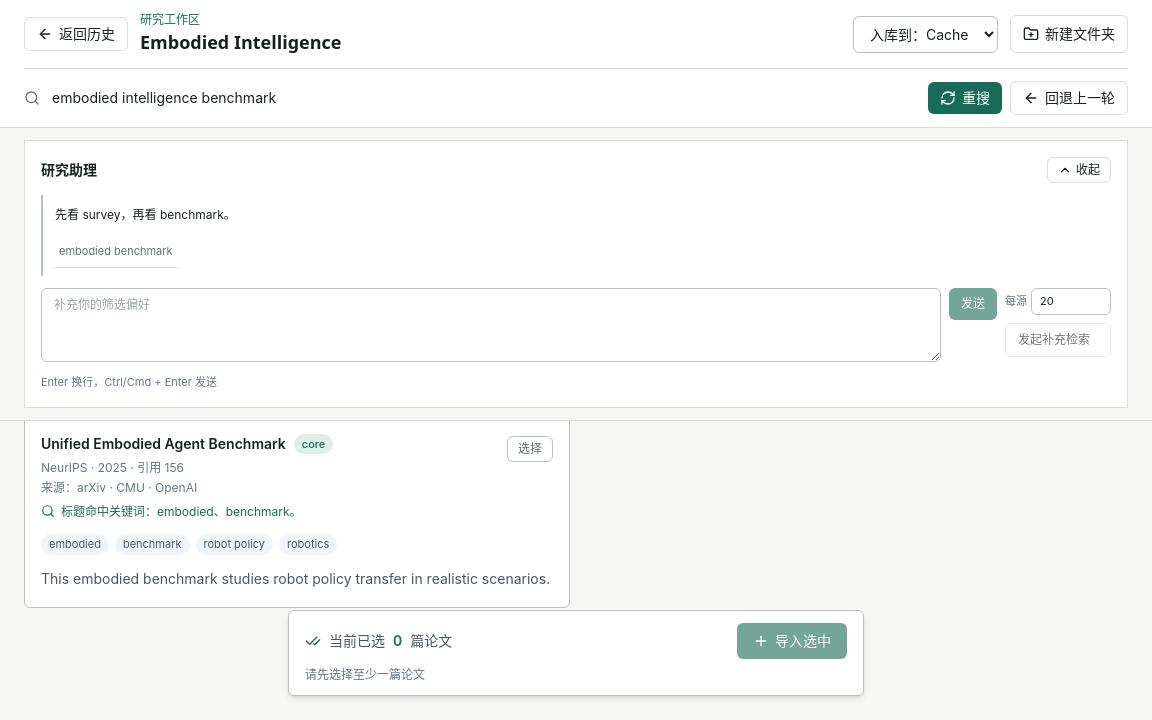
Test case: SessionDetailPanel › redacts sensitive values in clipboard copy failures
The image size is (1152, 720).
(page scrolled)
Click the heading "Unified Embodied Agent Benchmark" at [163, 444], box [41,432,286,456]
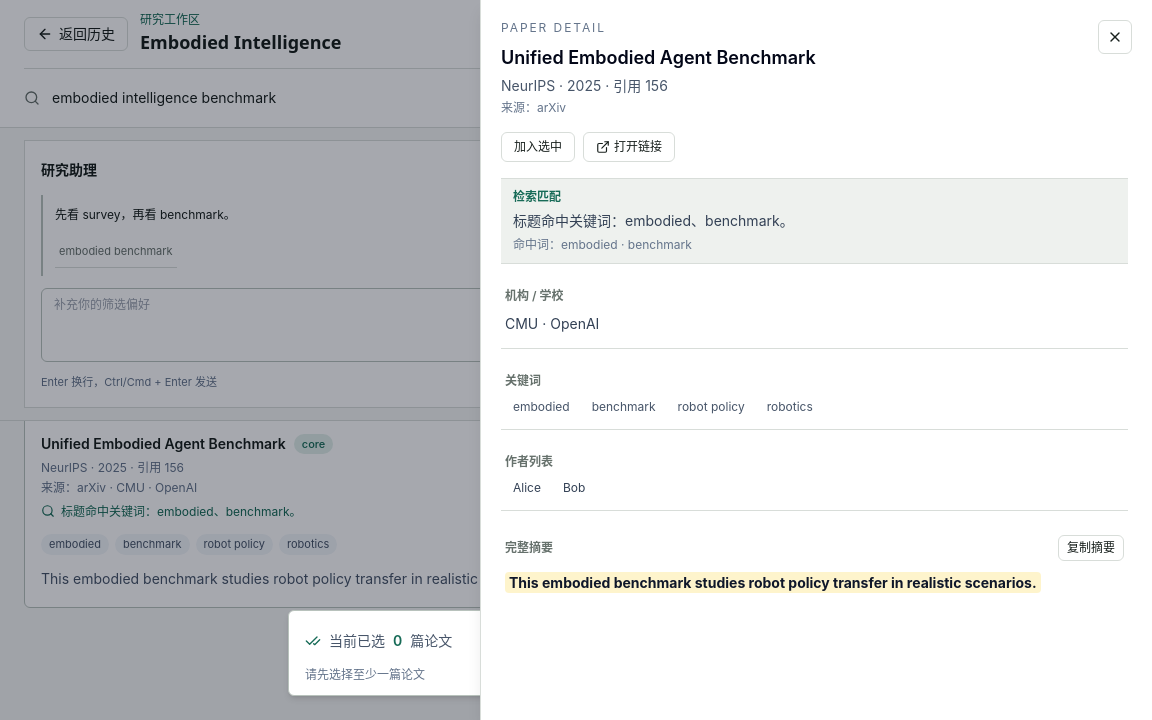
Click the button "复制摘要" at [1091, 548], box [1058,535,1124,561]
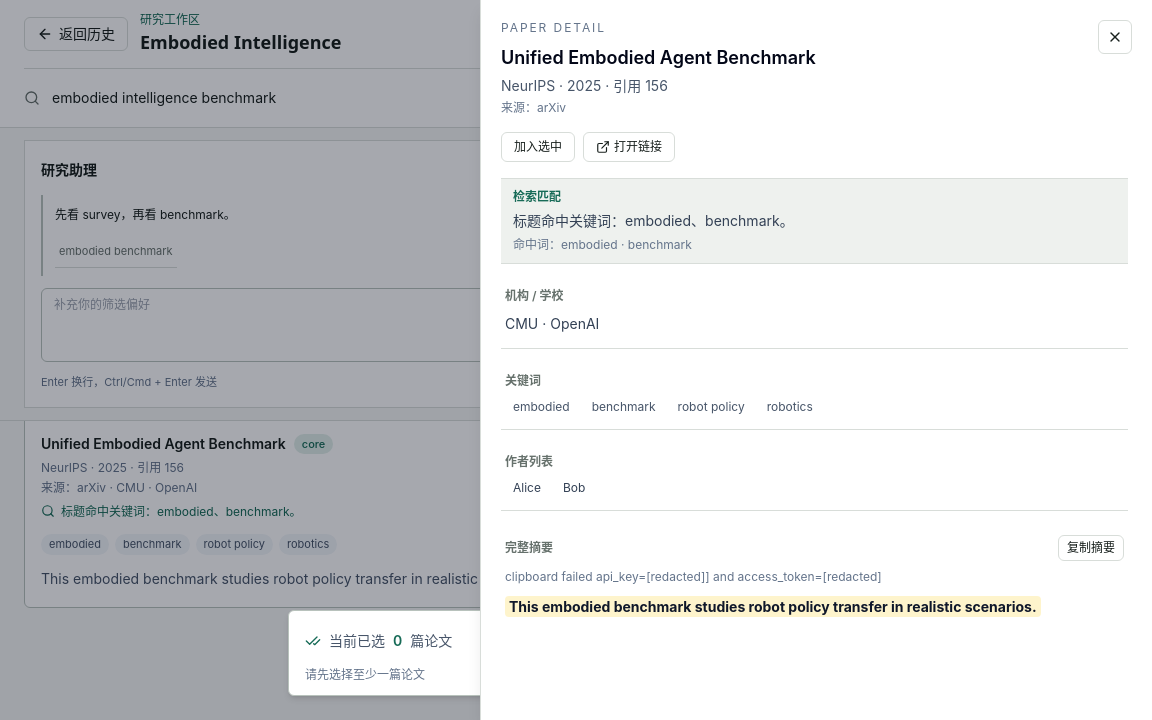
Check: the text "api_key=[redacted]" is shown, box [505,569,882,584]
Check: the text "access_token=[redacted]" is shown, box [505,569,882,584]
